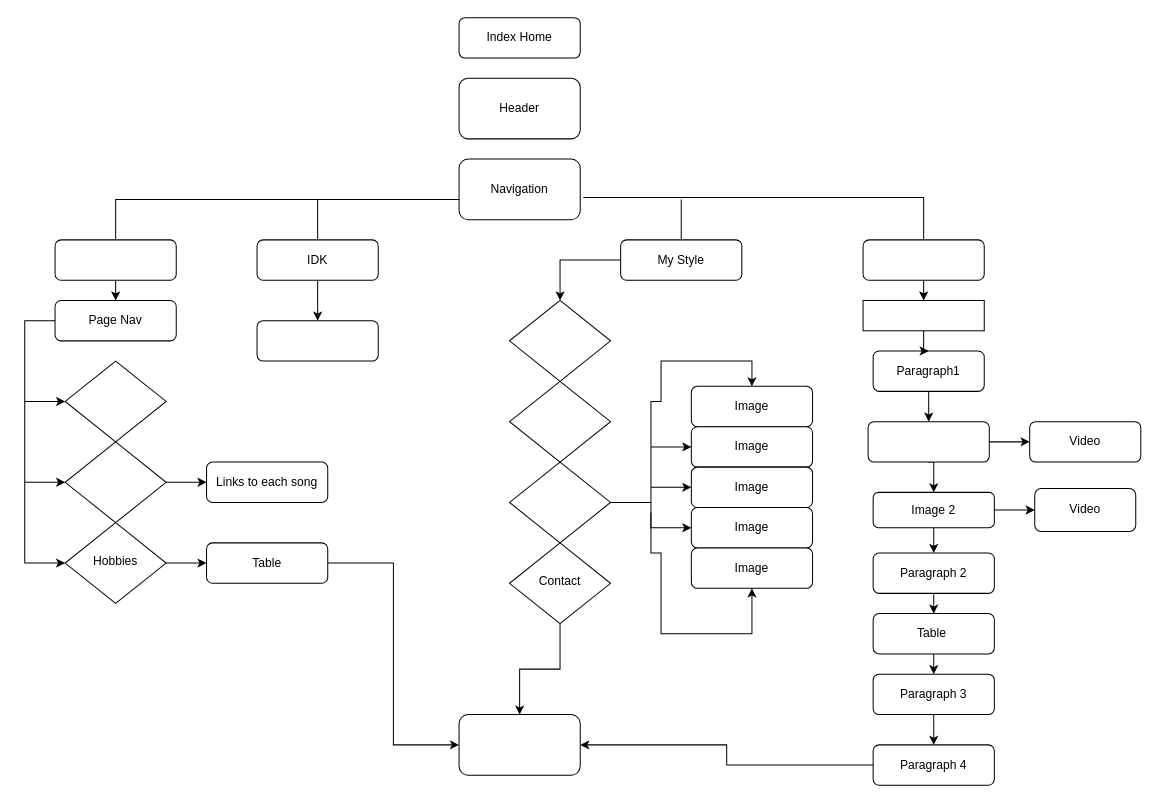
This 1158x803 diagram has some shape labels left out. Here are the shapes that lost their labels. From the top down, the centre of each, then its label:
At point (115, 259): "Home".
At point (923, 259): "LGBT".
At point (923, 315): "Audio".
At point (317, 340): "Link to get Rick Rolled".
At point (560, 340): "Paragraph on my style".
At point (115, 401): "Intro Paragraph".
At point (560, 421): "Style list".
At point (928, 441): "Image 1".
At point (115, 482): "Music List".
At point (560, 502): "Image gallery".
At point (519, 744): "Footer".
